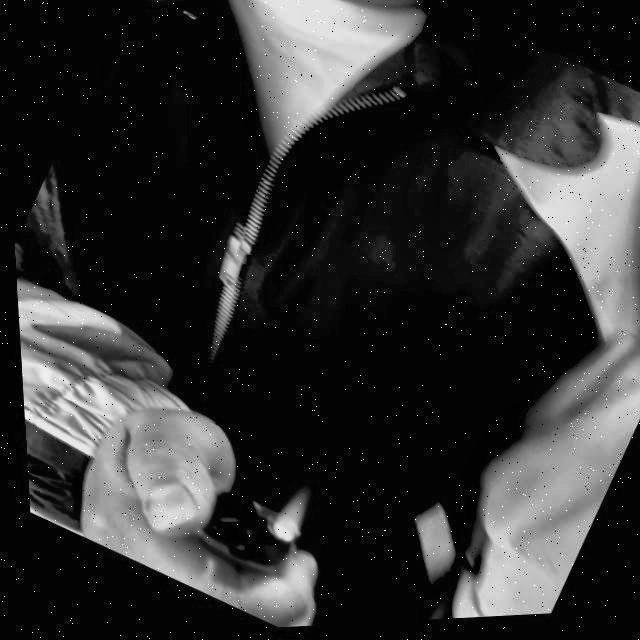Fire: (257, 477, 316, 548)
